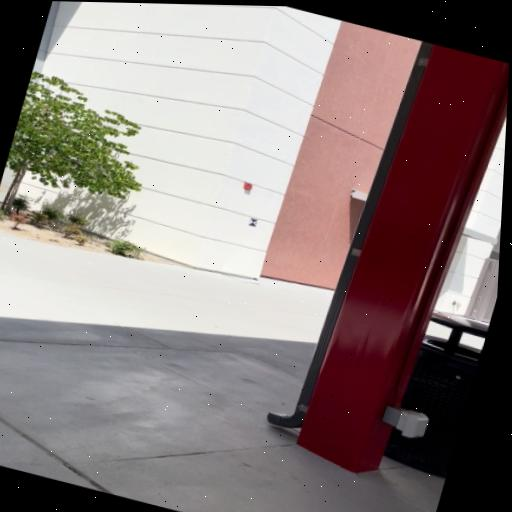target2: (246, 218, 260, 228)
